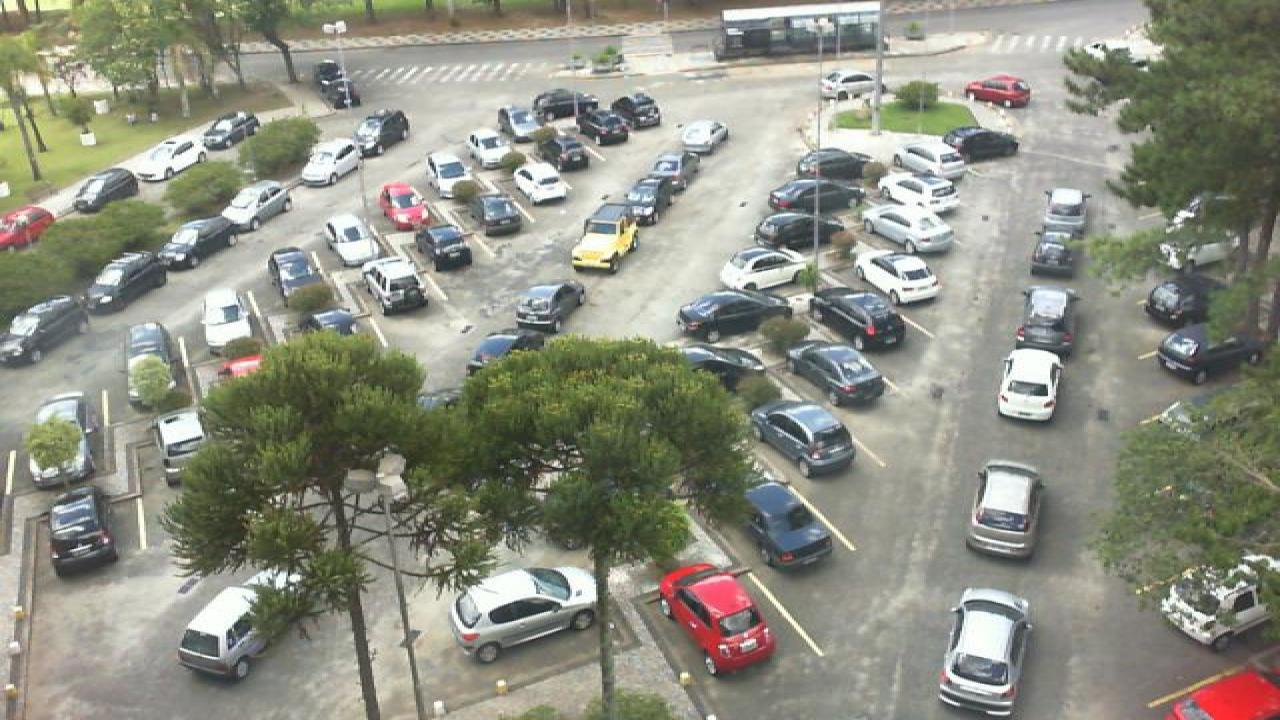Car: (452, 565, 600, 666), (656, 563, 778, 676), (938, 585, 1034, 719), (1160, 552, 1278, 650), (176, 582, 270, 680), (748, 398, 858, 480), (742, 480, 834, 574), (962, 459, 1044, 564), (24, 391, 96, 490), (1158, 320, 1264, 386), (790, 341, 890, 408), (806, 288, 908, 352), (0, 292, 88, 366), (46, 486, 118, 576), (676, 290, 796, 343), (84, 251, 170, 316), (994, 347, 1066, 423), (672, 343, 770, 394), (860, 202, 956, 254), (856, 249, 942, 306), (718, 246, 820, 294), (156, 406, 214, 490), (570, 202, 636, 272), (156, 214, 234, 271), (516, 280, 588, 339), (1016, 285, 1078, 352), (122, 320, 178, 394), (198, 290, 258, 359), (360, 257, 430, 315), (130, 135, 212, 183), (752, 213, 848, 252), (222, 179, 294, 231), (316, 212, 384, 266), (876, 171, 960, 213), (68, 168, 142, 214), (766, 178, 856, 215), (410, 222, 474, 274), (296, 137, 362, 187), (1142, 278, 1210, 326), (374, 180, 436, 232), (940, 125, 1024, 162), (352, 108, 412, 159), (894, 142, 970, 181), (794, 148, 874, 184), (618, 173, 672, 225), (268, 247, 324, 297), (510, 162, 572, 207), (466, 332, 524, 379), (0, 204, 58, 250), (198, 110, 260, 153), (1038, 187, 1092, 233), (420, 151, 474, 197), (1030, 228, 1080, 277), (964, 74, 1034, 108), (474, 191, 524, 235), (638, 150, 690, 192), (576, 108, 632, 146), (466, 133, 522, 171), (536, 134, 590, 171), (494, 106, 548, 143), (678, 119, 730, 155), (616, 91, 662, 131), (816, 70, 878, 99), (532, 88, 582, 122), (318, 81, 362, 110), (314, 58, 348, 86)
